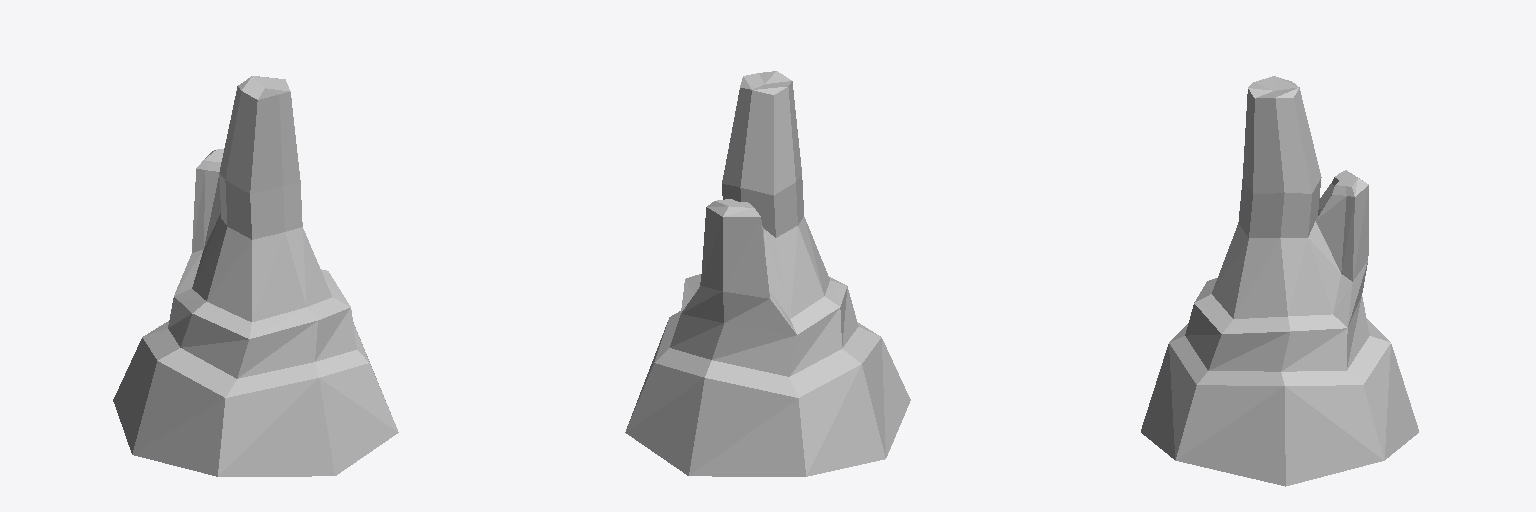
Rendered from NeanderRockStalagmite1.obj.
3 renders of one model, left to right at view 1: azimuth 30°, elevation 25°; view 2: azimuth 150°, elevation 25°; view 3: azimuth 270°, elevation 25°, orthographic.
Visible parts, largest first — view 1: pCube3; view 2: pCube3; view 3: pCube3.
Boxes of the visible parts, box(x1,y1,x2,y2) form: pCube3: box(113, 76, 398, 476); pCube3: box(625, 71, 910, 476); pCube3: box(1141, 76, 1418, 486).
Bounding box in the file's own units: 4.01 × 5.43 × 4.01.